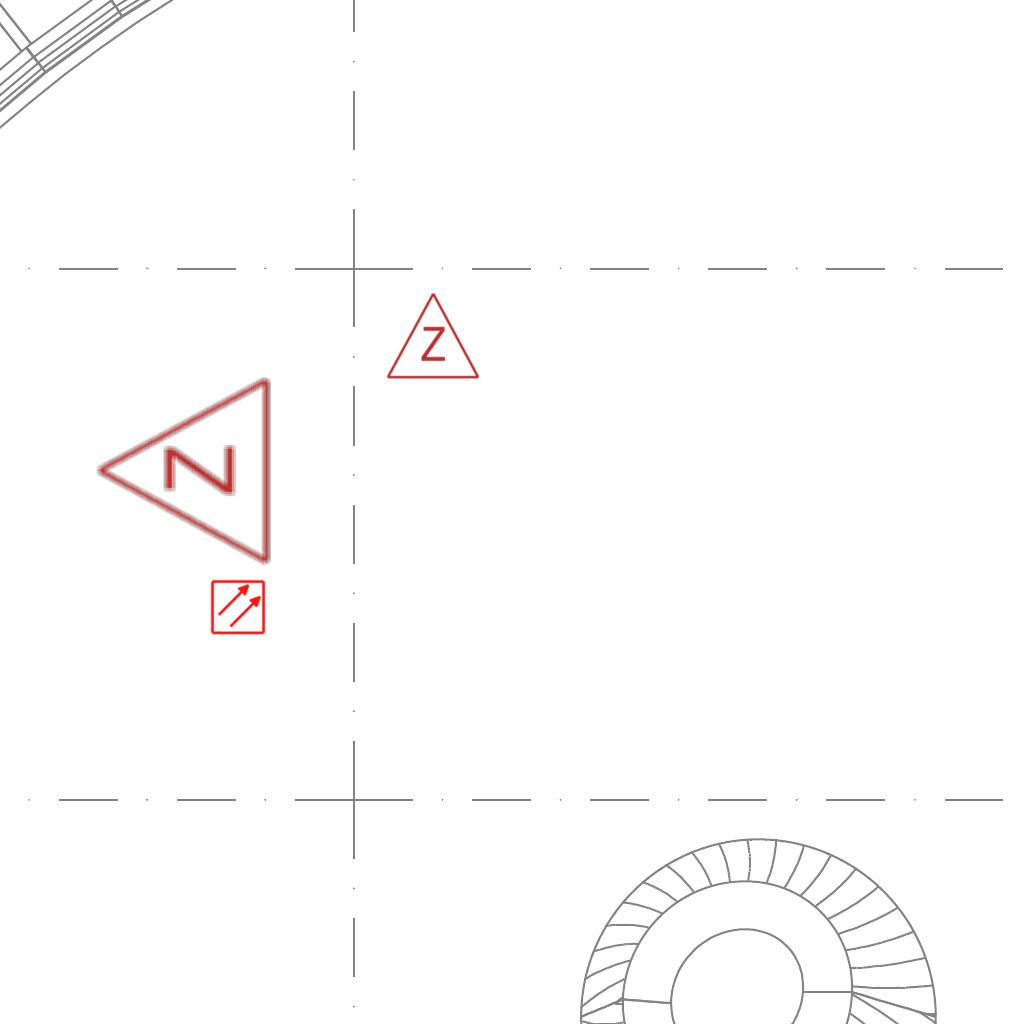RMO_Rauchmelder_optischer: (210, 579, 266, 635)
Zimmersignalleuchte: (84, 375, 284, 571), (383, 286, 481, 386)
